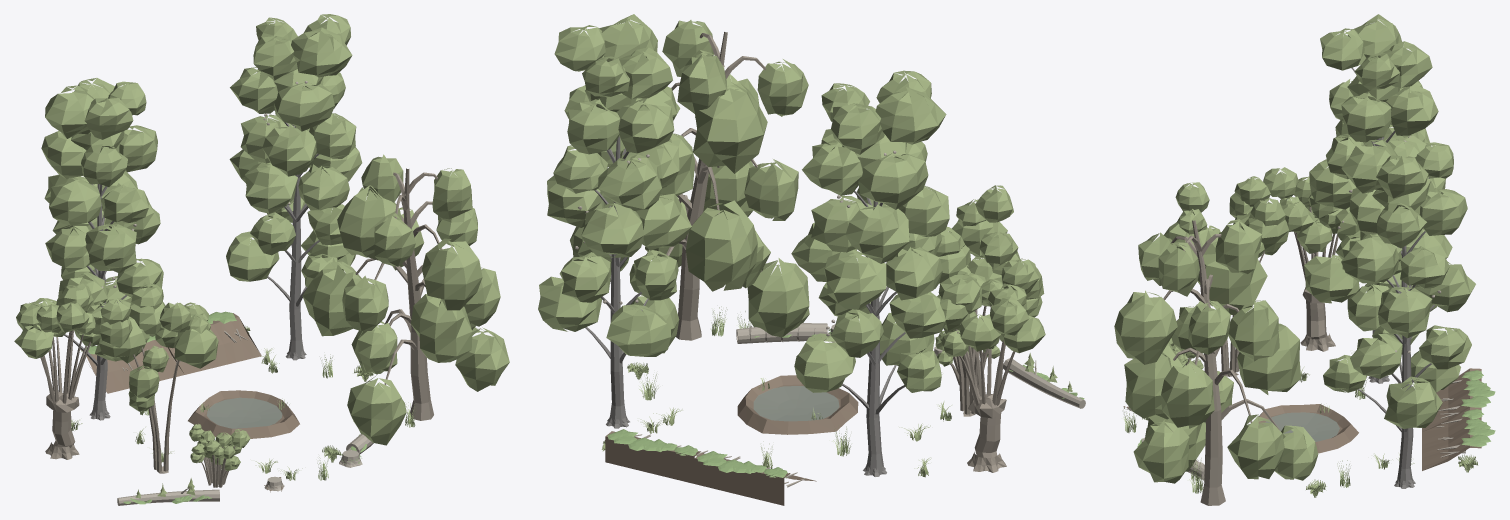
Rendered from temperate-forest-ecology-wet-woodland-pool-9a7383dd__3885.glb.
The picture shows the model from 3 angles, left to right: view 1: azimuth 30°, elevation 25°; view 2: azimuth 150°, elevation 25°; view 3: azimuth 270°, elevation 25°; orthographic projection. The views are drawn at different scales.
Parts seen in each view (by area): view 1: 005-white-willow-mature/1, 004-common-alder-mature/1, 003-common-alder-mature/1, 006-goat-willow-shrub-tree/1, 007-crack-willow-pollard/1, 000-woodland-pool/0, 005-white-willow-mature/0, 007-crack-willow-pollard/0, 004-common-alder-mature/0, 002-earth-bank-tile/0, 000-woodland-pool/1, 008-dogwood-thicket/1 (+5 smaller); view 2: 003-common-alder-mature/1, 004-common-alder-mature/1, 005-white-willow-mature/1, 007-crack-willow-pollard/1, 006-goat-willow-shrub-tree/1, 000-woodland-pool/0, 005-white-willow-mature/0, 007-crack-willow-pollard/0, 003-common-alder-mature/0, 000-woodland-pool/1, 004-common-alder-mature/0, 001-earth-bank-tile/0 (+6 smaller); view 3: 005-white-willow-mature/1, 004-common-alder-mature/1, 003-common-alder-mature/1, 006-goat-willow-shrub-tree/1, 005-white-willow-mature/0, 007-crack-willow-pollard/1, 000-woodland-pool/0, 004-common-alder-mature/0, 002-earth-bank-tile/0, 007-crack-willow-pollard/0, 000-woodland-pool/1, 001-earth-bank-tile/0 (+3 smaller).
Part boxes in pixels (box(x1,y1,x2,y2)): 005-white-willow-mature/1: box(302, 154, 509, 445); 004-common-alder-mature/1: box(226, 14, 362, 287); 003-common-alder-mature/1: box(29, 78, 163, 361); 006-goat-willow-shrub-tree/1: box(99, 282, 218, 411); 007-crack-willow-pollard/1: box(14, 283, 105, 358); 000-woodland-pool/0: box(188, 390, 299, 438); 005-white-willow-mature/0: box(355, 168, 442, 420); 007-crack-willow-pollard/0: box(40, 330, 90, 459); 004-common-alder-mature/0: box(267, 110, 319, 360); 002-earth-bank-tile/0: box(169, 313, 261, 374); 000-woodland-pool/1: box(207, 397, 282, 428); 008-dogwood-thicket/1: box(189, 423, 250, 470); 003-common-alder-mature/1: box(791, 70, 949, 392); 004-common-alder-mature/1: box(538, 14, 691, 356); 005-white-willow-mature/1: box(570, 20, 809, 353); 007-crack-willow-pollard/1: box(937, 258, 1045, 356); 006-goat-willow-shrub-tree/1: box(934, 185, 1044, 317); 000-woodland-pool/0: box(737, 375, 858, 434); 005-white-willow-mature/0: box(666, 32, 765, 340); 007-crack-willow-pollard/0: box(955, 305, 1015, 472); 003-common-alder-mature/0: box(842, 191, 905, 476); 000-woodland-pool/1: box(753, 386, 839, 421); 004-common-alder-mature/0: box(585, 136, 648, 428); 001-earth-bank-tile/0: box(694, 453, 816, 505); 005-white-willow-mature/1: box(1114, 219, 1318, 483); 004-common-alder-mature/1: box(1323, 135, 1475, 428); 003-common-alder-mature/1: box(1304, 14, 1447, 311); 006-goat-willow-shrub-tree/1: box(1164, 176, 1288, 257); 005-white-willow-mature/0: box(1163, 220, 1279, 505); 007-crack-willow-pollard/1: box(1263, 167, 1349, 253); 000-woodland-pool/0: box(1258, 404, 1358, 453); 004-common-alder-mature/0: box(1358, 178, 1434, 488); 002-earth-bank-tile/0: box(1422, 407, 1481, 470); 007-crack-willow-pollard/0: box(1294, 207, 1338, 351); 000-woodland-pool/1: box(1264, 412, 1339, 441); 001-earth-bank-tile/0: box(1422, 368, 1481, 431).
Size of the model in its own units: 22.53 by 16.61 by 16.57.
